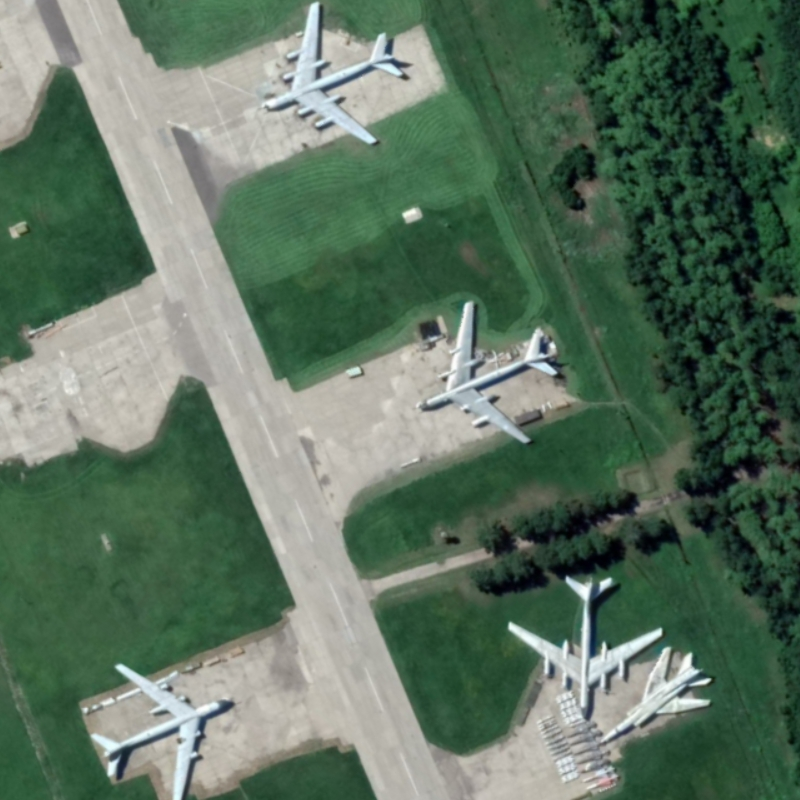A12: (598, 644, 715, 746)
A17: (505, 572, 666, 721), (415, 298, 560, 446), (261, 1, 406, 147), (87, 661, 237, 800)
